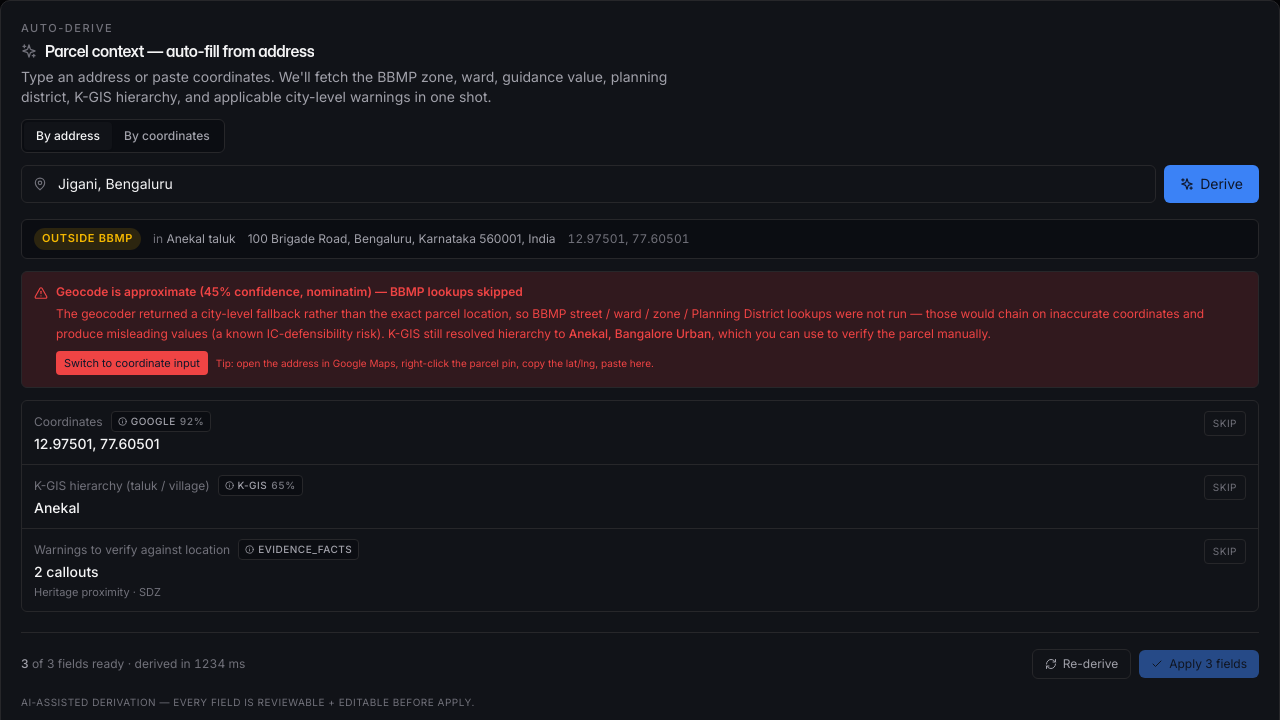
Test: AutoFillParcelContextCard › shows the high-severity CoordinatesGateExplainer + switch-to-coords button when geocode is gated
Expected: the element with test id "coordinates-gate-explainer" shows "Geocode is approximate (45% confidence, nominatim)", 21,271 -> 1259,388
Expected: the element with test id "coordinates-gate-explainer" shows "BBMP lookups skipped", 372,284 -> 523,299
# Clicking the switch button should flip mode to coordinates.
What coordinates should you click on to do the following:
click the button "Switch to coordinate input"
I would click on:
 (132, 363)
Its box is 56,351 -> 208,375.
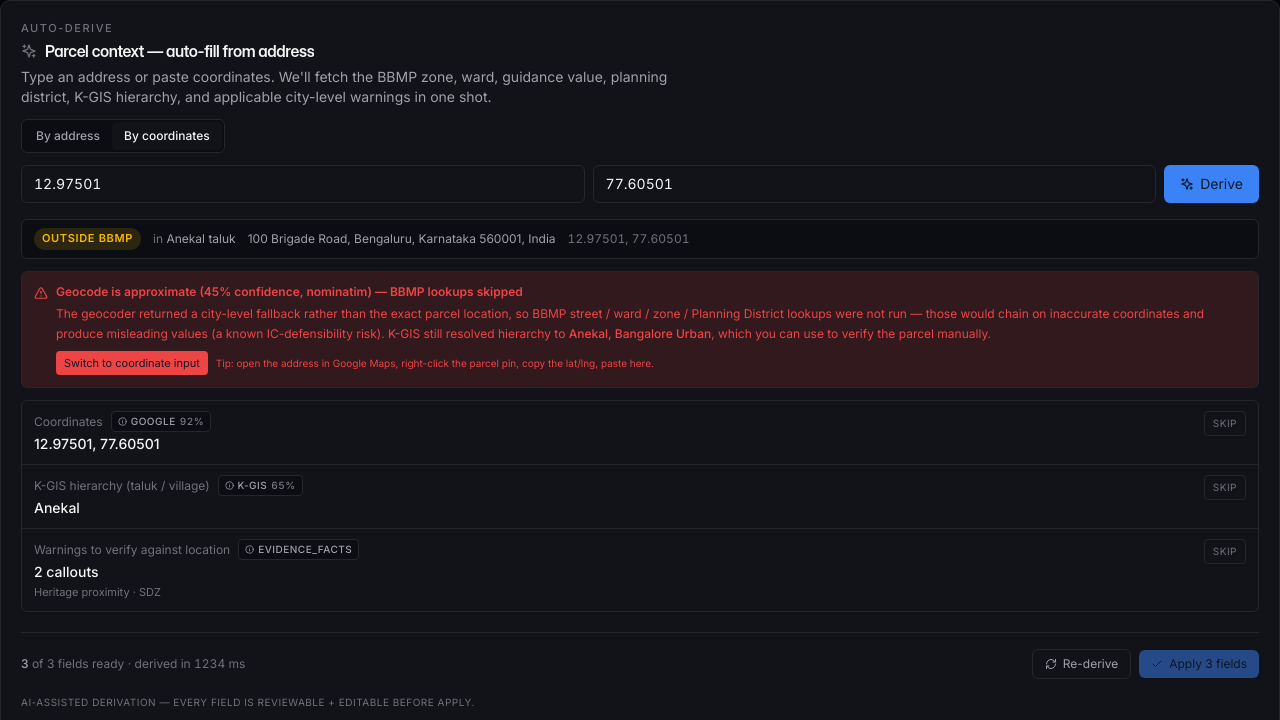
Expected: the number field named "Latitude" is shown, 21,165 -> 585,203
Expected: the number field named "Longitude" is shown, 593,165 -> 1156,203
